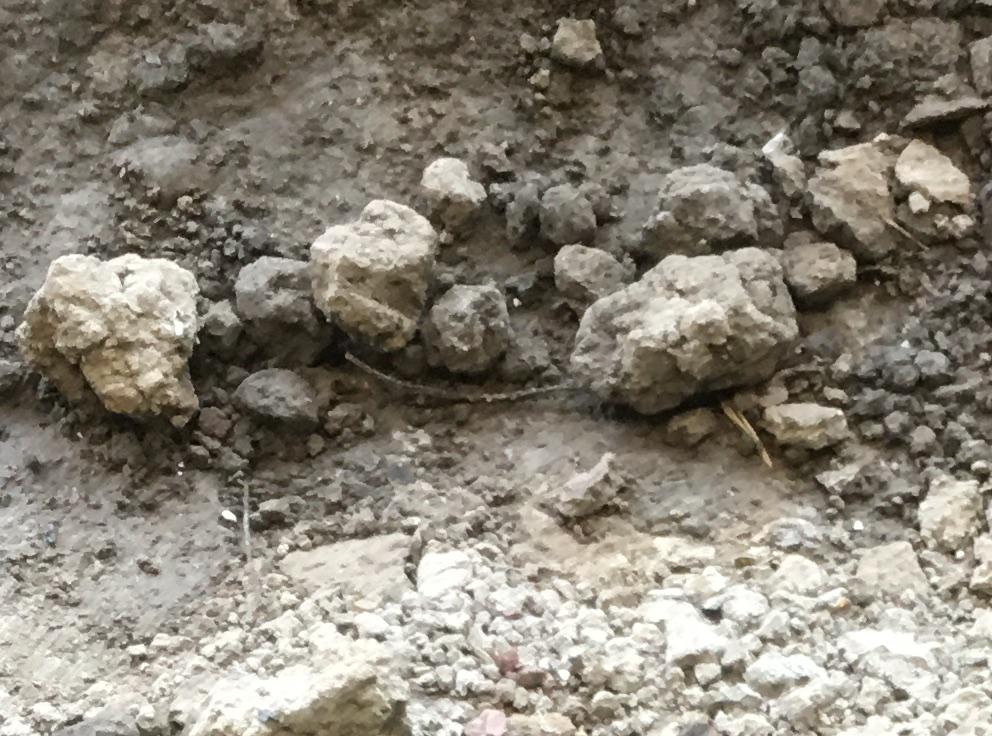block: (571, 254, 800, 410), (14, 246, 207, 425), (305, 202, 427, 354)
